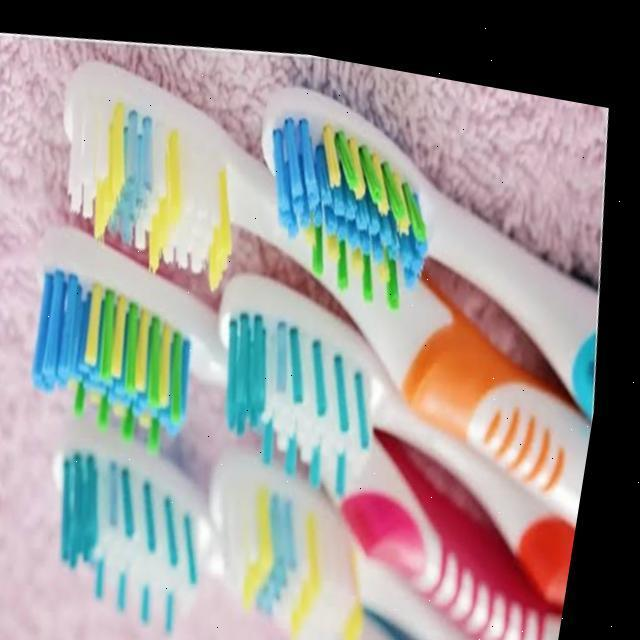toothbrush: (67, 48, 601, 514), (43, 218, 579, 640), (225, 256, 589, 580), (264, 84, 602, 402), (63, 409, 434, 640), (217, 433, 515, 640)
